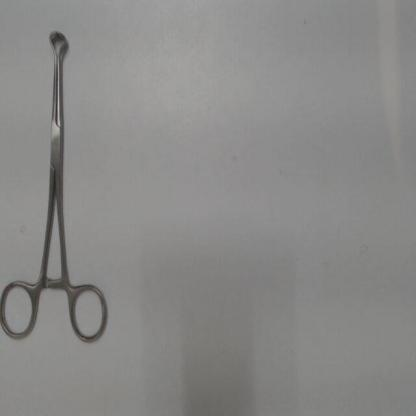Babcock Tissue Forceps: (0, 29, 114, 346)
